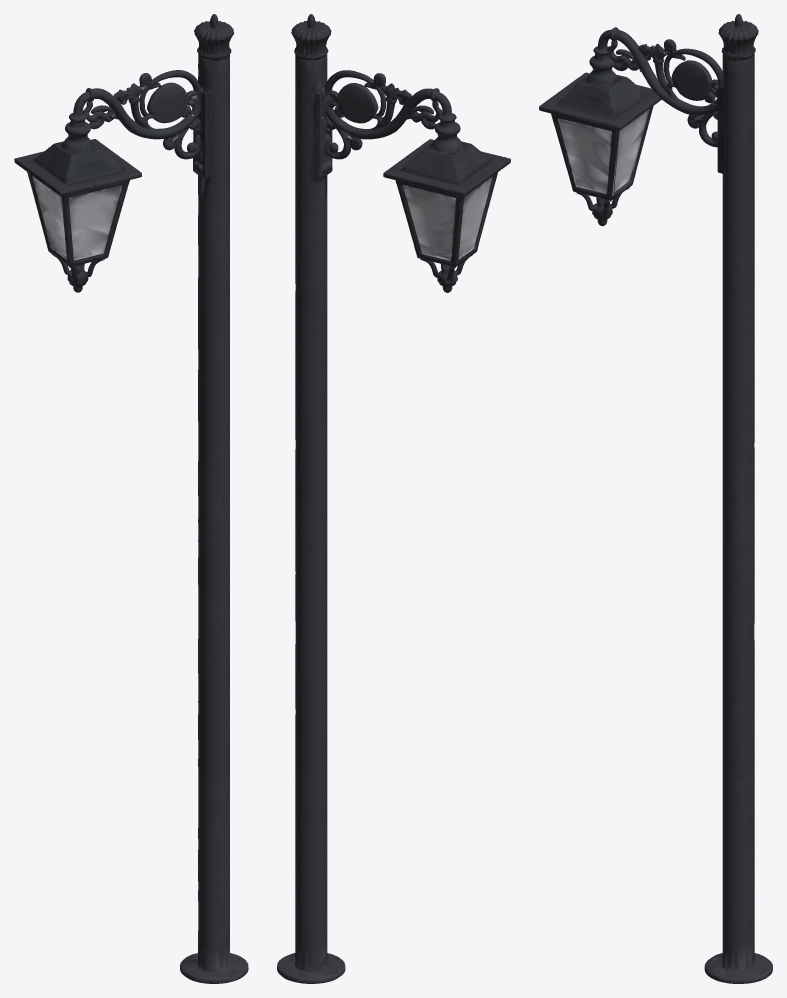
File: ndricues-hero-right.glb
3 views of the same model, side by side, from view 1: azimuth 30°, elevation 25°; view 2: azimuth 150°, elevation 25°; view 3: azimuth 330°, elevation 25° (orthographic).
Size of the model in its own units: 0.4332 by 1.92 by 0.1708.
1 material, 1 textured.
